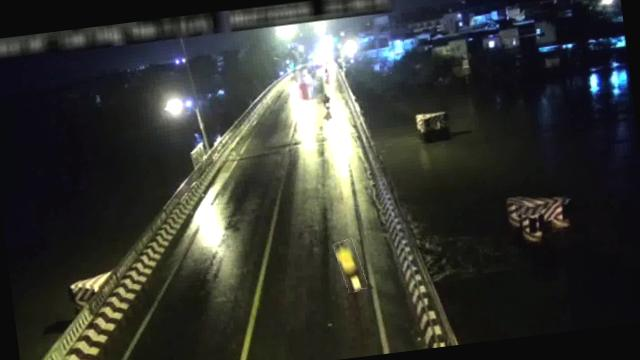Bike: (335, 237, 366, 293)
